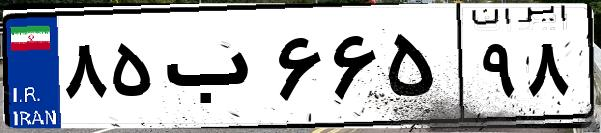5: (385, 28, 445, 110), (110, 28, 158, 98)
6: (270, 28, 330, 110), (330, 28, 385, 110)
8: (57, 26, 110, 100), (525, 38, 570, 115)
9: (475, 38, 525, 113)
ب: (158, 20, 270, 120)
